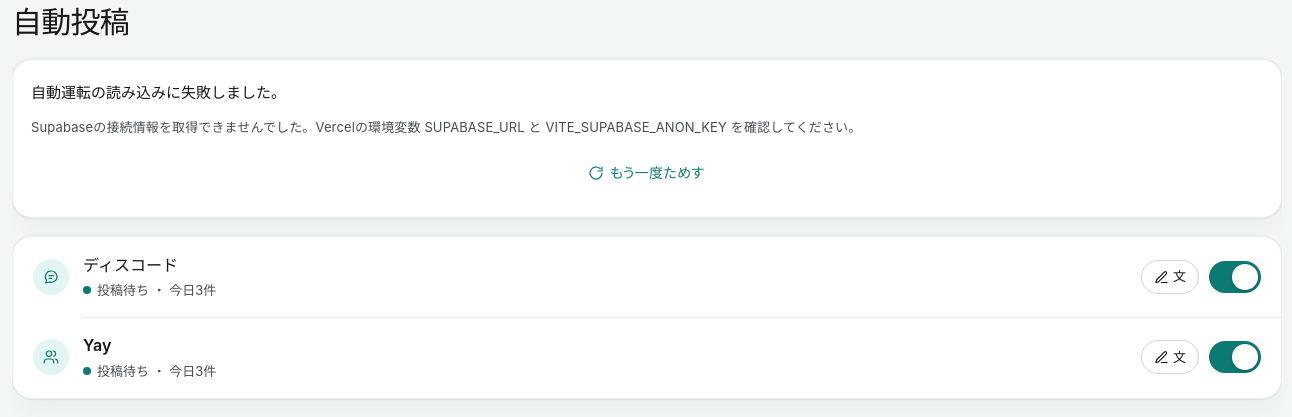
Test: AutoPostHome（アプリを開いて最初の1画面） › ディスコードだけ止めても、Yay には触れない
Click the switch named "ディスコードの自動投稿" at (1235, 277), box [1209, 261, 1261, 293]
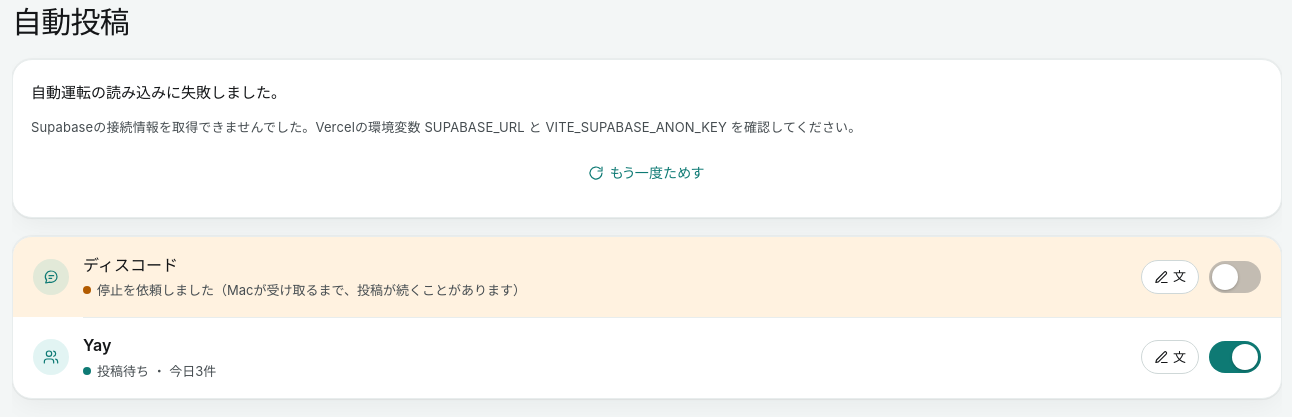
Expected: the switch named "Yayの自動投稿" is enabled, [1209, 341, 1261, 373]
Now the text "停止を依頼しました（Macが受け取るまで、投稿が続くことがあります）" is shown, box [83, 282, 526, 298]
